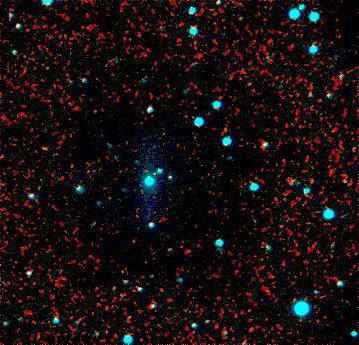star: (141, 155, 171, 185)
